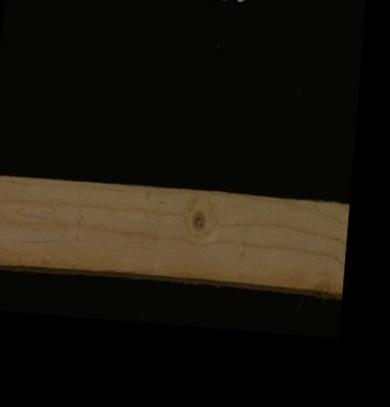sound_knot: (188, 206, 209, 232)
